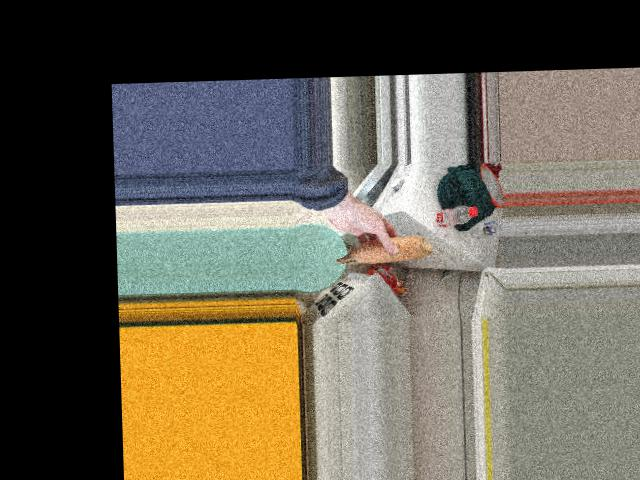sweet_potato: (333, 228, 436, 266)
